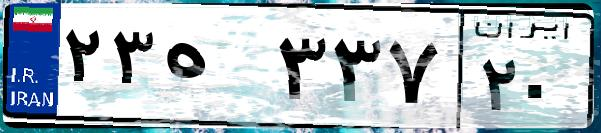0: (525, 38, 570, 115)
2: (57, 26, 110, 100), (475, 38, 525, 113)
3: (270, 28, 330, 110), (330, 28, 385, 110), (110, 28, 158, 98)
7: (385, 28, 445, 110)
ه: (158, 20, 270, 120)
